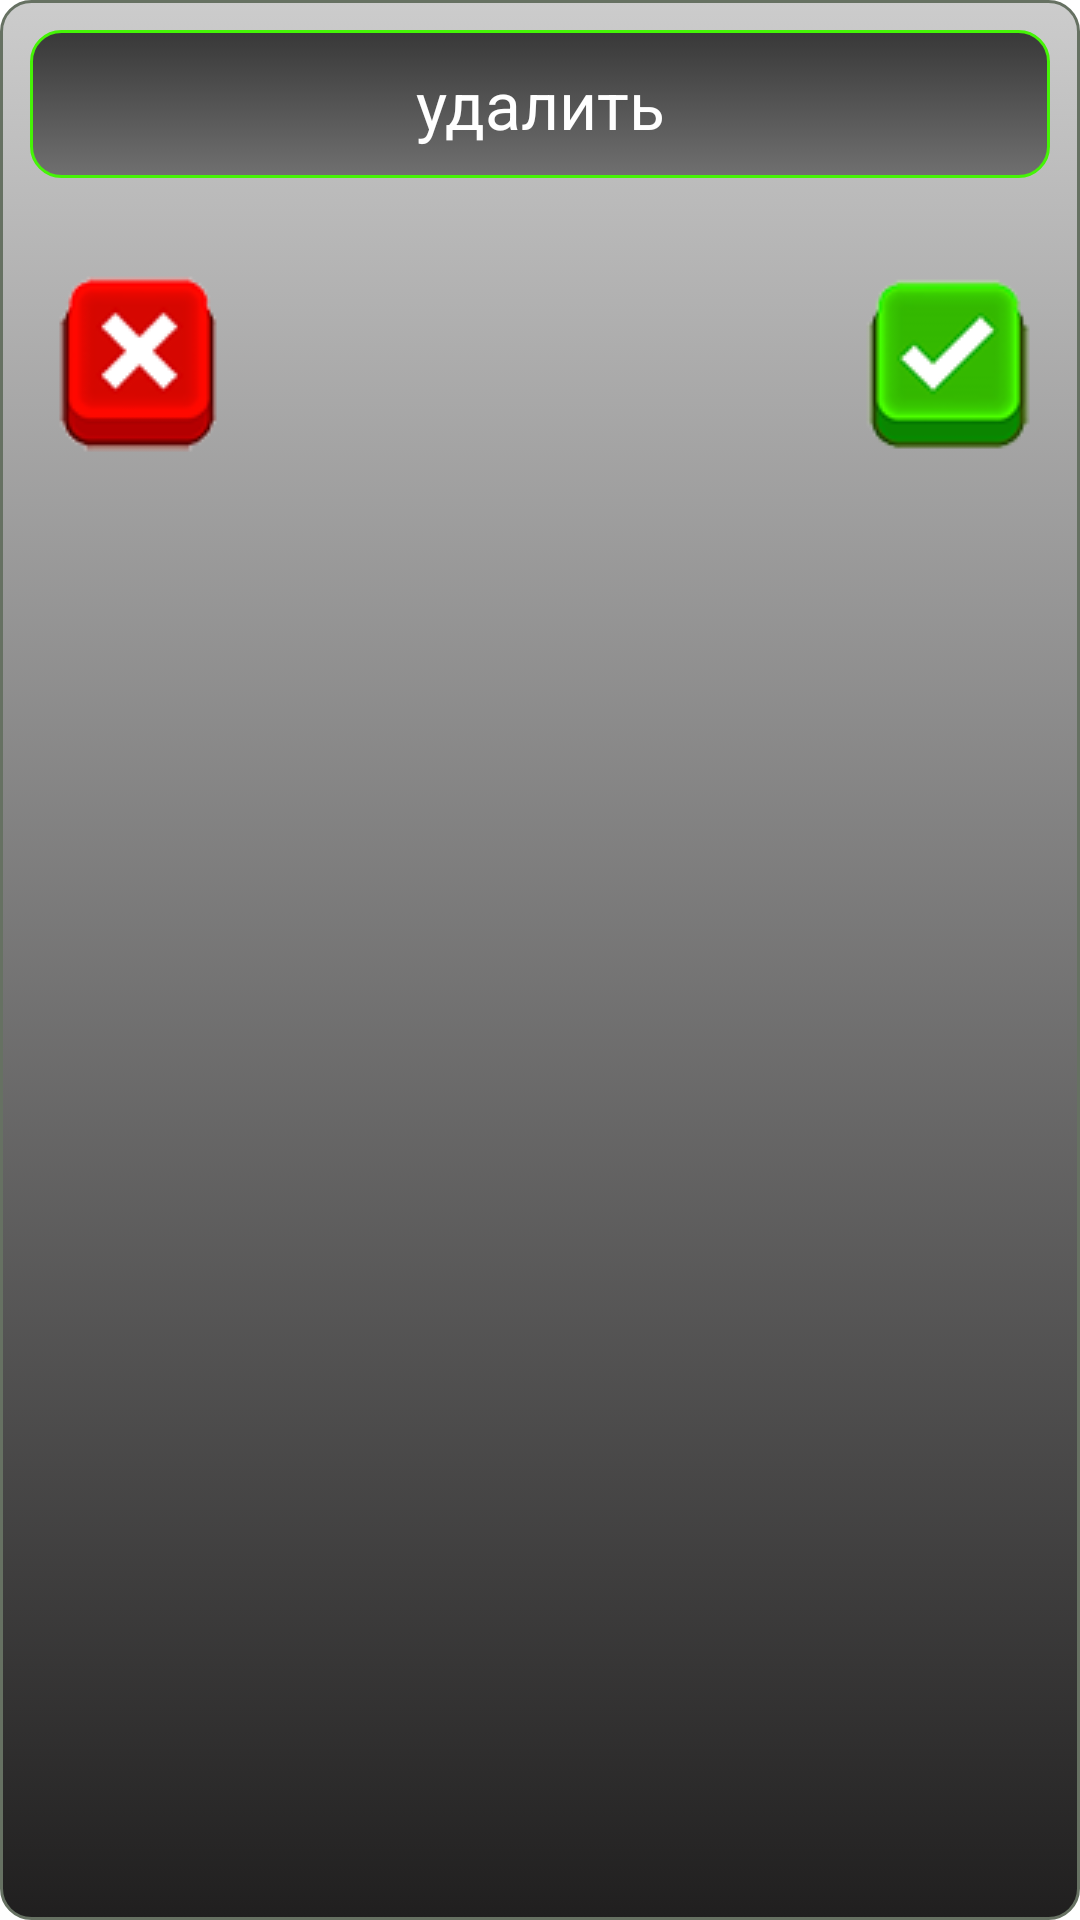

Icon bounding boxes for this 1080 x 1920 phone screenshot, format (x1, y1, x2, y2):
yes: (869, 279, 1029, 449)
